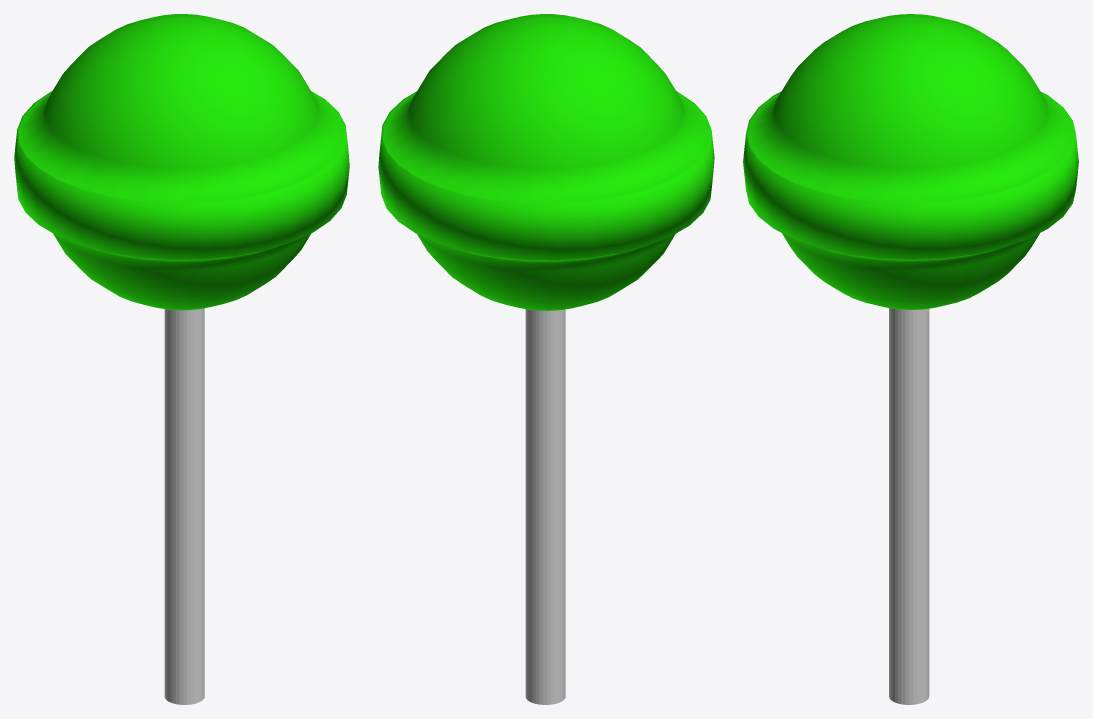
File: ChupaChups 2.glb
The picture shows the model from 3 angles, left to right: view 1: azimuth 30°, elevation 25°; view 2: azimuth 150°, elevation 25°; view 3: azimuth 270°, elevation 25°; orthographic projection.
Visible parts, largest first — view 1: Sphere, Cylinder; view 2: Sphere, Cylinder; view 3: Sphere, Cylinder.
Part boxes in pixels (x1,y1,x2,y2): Sphere: (14,14,349,310); Cylinder: (164,308,204,704); Sphere: (378,14,714,310); Cylinder: (525,309,565,704); Sphere: (743,14,1078,309); Cylinder: (889,308,929,704).
Size of the model in its own units: 2.27 by 4.97 by 2.27.
